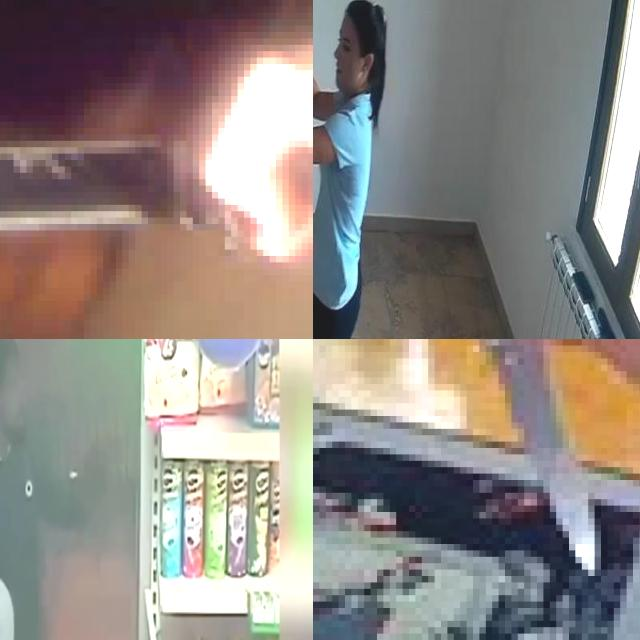Knife_Handle: (0, 10, 313, 266), (361, 339, 598, 576)
